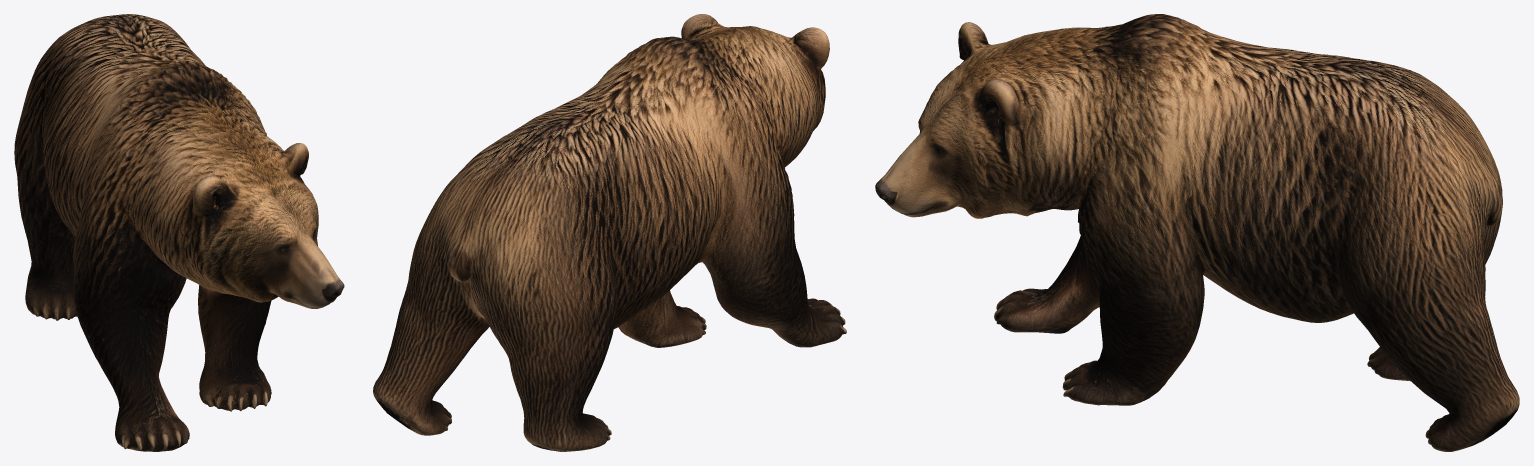
File: oso_pardo.glb
3 renders of one model, left to right at view 1: azimuth 30°, elevation 25°; view 2: azimuth 150°, elevation 25°; view 3: azimuth 270°, elevation 25°, orthographic. The views are drawn at different scales.
Parts seen in each view (by area): view 1: Mesh_0; view 2: Mesh_0; view 3: Mesh_0.
Boxes of the visible parts, bbox=[...] form: Mesh_0: bbox=[14, 14, 344, 451]; Mesh_0: bbox=[373, 14, 846, 451]; Mesh_0: bbox=[875, 14, 1519, 451].
Bounding box in the file's own units: 1.04 × 1.16 × 1.9.
1 material, 1 textured.
